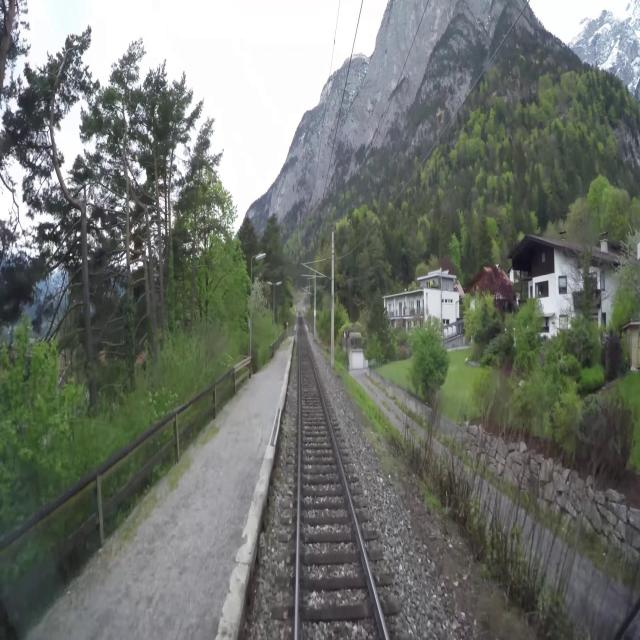rail-track: (298, 319, 383, 639)
